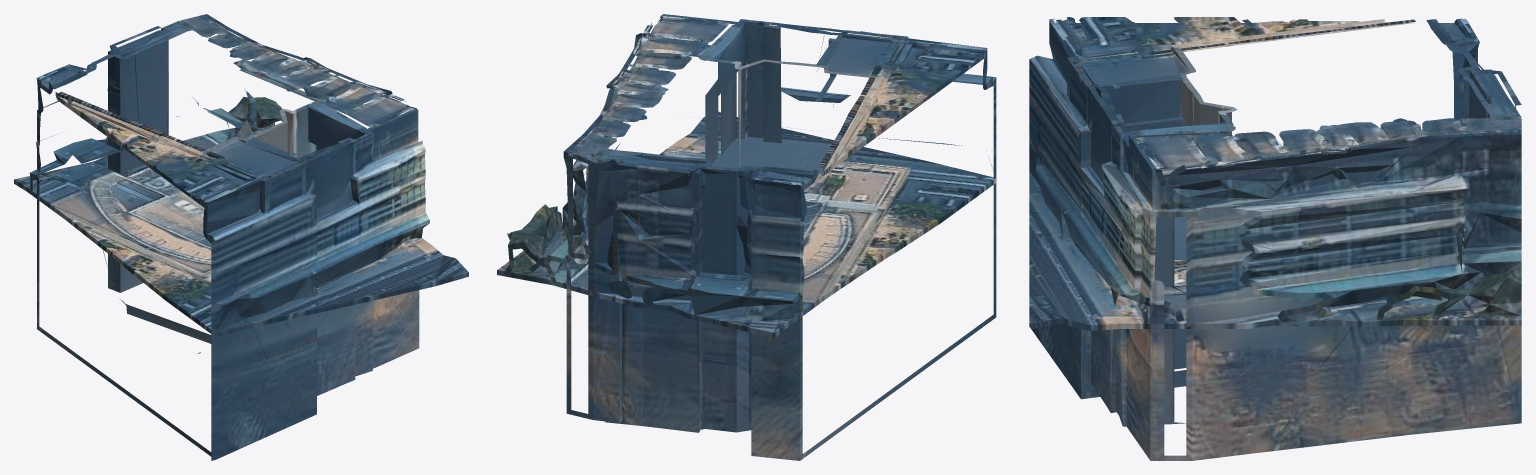
File: chunk_-5_-8.glb
3 views of the same model, side by side, from view 1: azimuth 30°, elevation 25°; view 2: azimuth 150°, elevation 25°; view 3: azimuth 270°, elevation 25° (orthographic). The views are drawn at different scales.
Visible parts, largest first — view 1: hero-chunk; view 2: hero-chunk; view 3: hero-chunk.
Boxes of the visible parts, x1=… form: hero-chunk: x1=14, y1=14, x2=468, y2=460; hero-chunk: x1=497, y1=14, x2=996, y2=460; hero-chunk: x1=1029, y1=17, x2=1521, y2=460.
Size of the model in its own units: 56.35 by 53.53 by 76.32.
2 materials, 2 textured.
